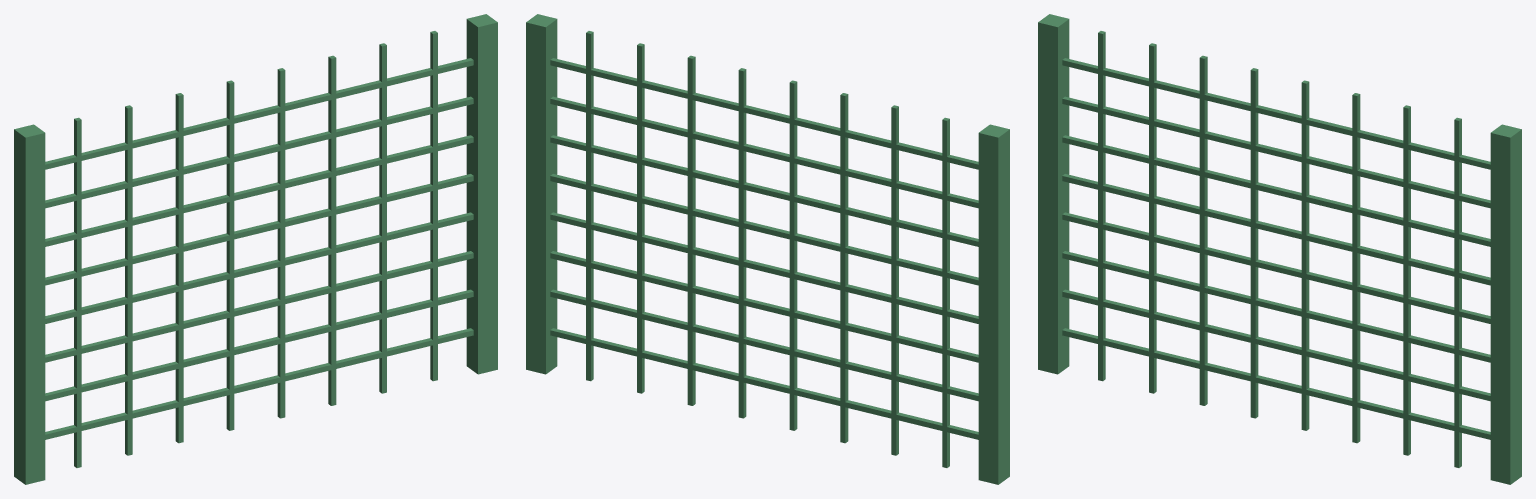
The picture shows the model from 3 angles, left to right: view 1: azimuth 30°, elevation 25°; view 2: azimuth 150°, elevation 25°; view 3: azimuth 330°, elevation 25°; orthographic projection.
Visible parts, largest first — view 1: Palo_Sinistro, Palo_Destro, Orizzontale_1, Orizzontale_4, Orizzontale_3, Orizzontale_6, Orizzontale_7, Orizzontale_8, Orizzontale_2, Orizzontale_5, Verticale_3, Verticale_4 (+6 smaller); view 2: Palo_Sinistro, Palo_Destro, Orizzontale_7, Orizzontale_1, Orizzontale_4, Orizzontale_8, Orizzontale_3, Orizzontale_6, Orizzontale_5, Orizzontale_2, Verticale_6, Verticale_5 (+6 smaller); view 3: Palo_Destro, Palo_Sinistro, Orizzontale_7, Orizzontale_1, Orizzontale_4, Orizzontale_8, Orizzontale_3, Orizzontale_6, Orizzontale_5, Orizzontale_2, Verticale_3, Verticale_4 (+6 smaller).
Boxes of the visible parts, x1,y1,x2,y2 form: Palo_Sinistro: (14, 124, 45, 484); Palo_Destro: (466, 14, 497, 374); Orizzontale_1: (45, 328, 473, 439); Orizzontale_4: (45, 212, 473, 323); Orizzontale_3: (45, 251, 473, 362); Orizzontale_6: (45, 135, 473, 246); Orizzontale_7: (45, 96, 473, 208); Orizzontale_8: (45, 58, 473, 169); Orizzontale_2: (45, 289, 473, 401); Orizzontale_5: (45, 174, 473, 285); Verticale_3: (175, 93, 183, 443); Verticale_4: (226, 80, 234, 430); Palo_Sinistro: (978, 124, 1009, 484); Palo_Destro: (526, 14, 557, 374); Orizzontale_7: (550, 96, 978, 208); Orizzontale_1: (550, 328, 978, 439); Orizzontale_4: (550, 212, 978, 323); Orizzontale_8: (550, 58, 978, 169); Orizzontale_3: (550, 251, 978, 362); Orizzontale_6: (550, 135, 978, 246); Orizzontale_5: (550, 174, 978, 285); Orizzontale_2: (550, 289, 978, 401); Verticale_6: (687, 55, 695, 405); Verticale_5: (738, 68, 746, 418); Palo_Destro: (1490, 124, 1521, 484); Palo_Sinistro: (1038, 14, 1069, 374); Orizzontale_7: (1062, 96, 1490, 208); Orizzontale_1: (1062, 328, 1490, 439); Orizzontale_4: (1062, 212, 1490, 323); Orizzontale_8: (1062, 58, 1490, 169); Orizzontale_3: (1062, 251, 1490, 362); Orizzontale_6: (1062, 135, 1490, 246); Orizzontale_5: (1062, 174, 1490, 285); Orizzontale_2: (1062, 289, 1490, 401); Verticale_3: (1199, 55, 1207, 405); Verticale_4: (1250, 68, 1258, 418).
Size of the model in its own units: 2.85 by 2 by 0.12.
